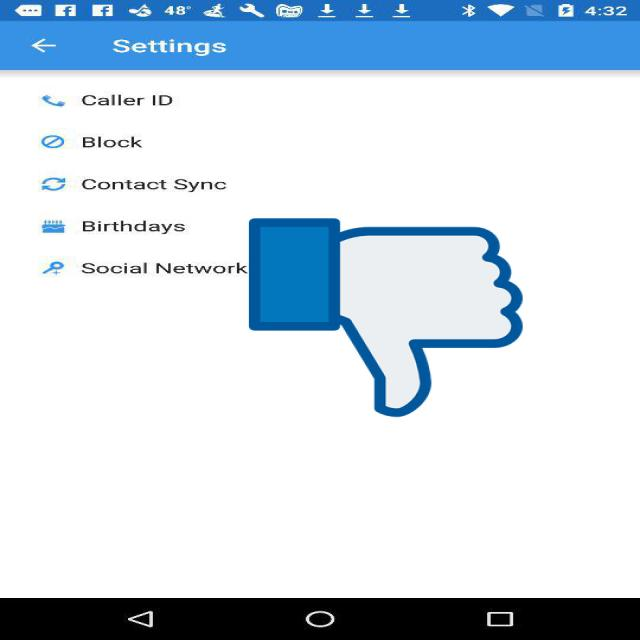obstruction: (249, 214, 523, 421)
